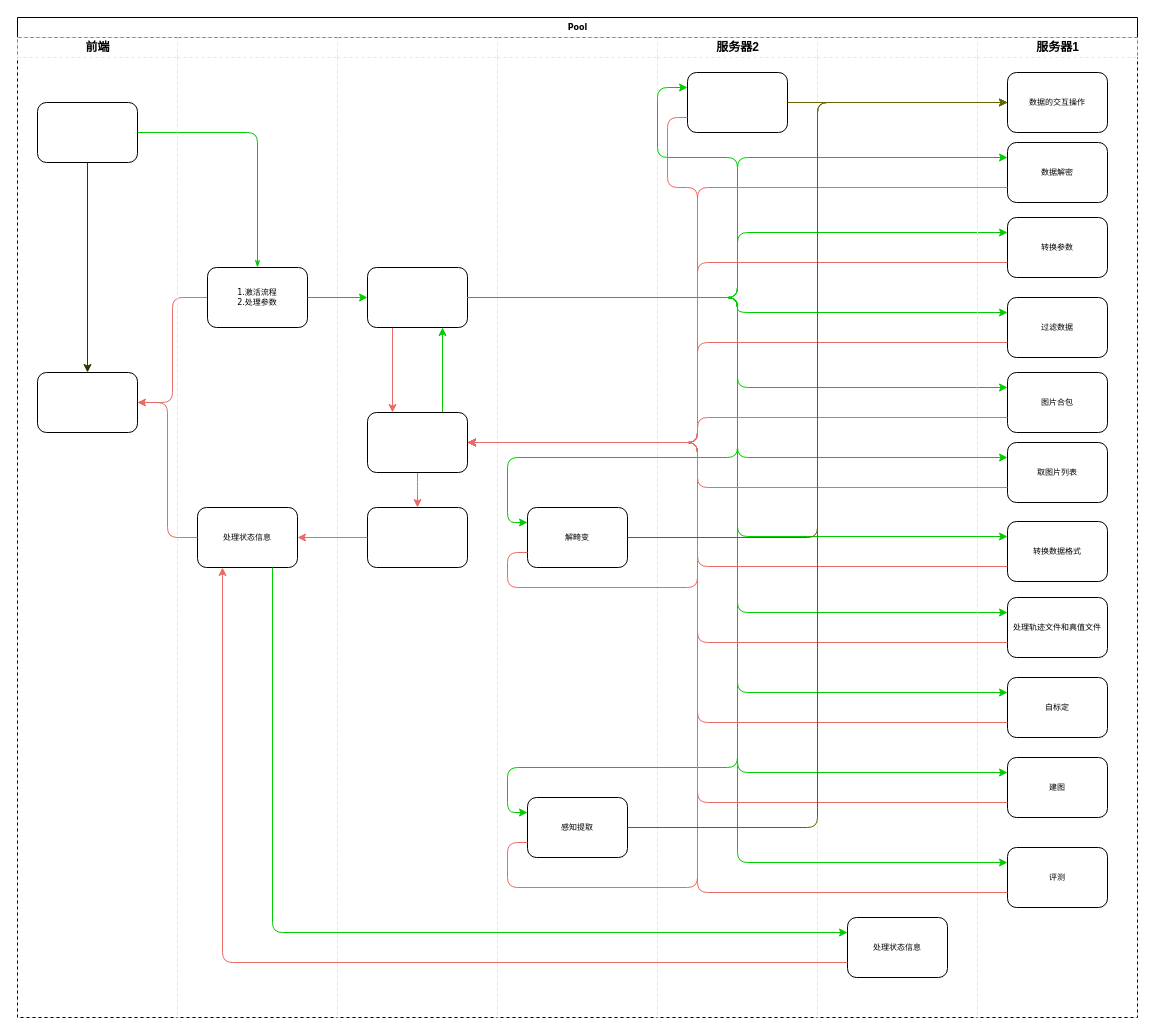
The diagram is 1155 pixels wide and 1035 high, and some of its shapes have lost their labels. Here are the shapes that lost their labels. From the top down, the box of each, then its label:
(686, 72, 788, 132): 轨迹解算
(36, 102, 138, 162): 触发(附带参数)
(366, 266, 468, 328): 任务分发
(36, 372, 138, 432): 状态显示
(366, 412, 468, 472): 流程控制
(176, 36, 338, 1018): 后端
(336, 36, 498, 1018): 控制机/分发机
(366, 506, 468, 568): 信息处理
(496, 36, 658, 1018): gpu服务器
(816, 36, 978, 1018): mysql数据库
